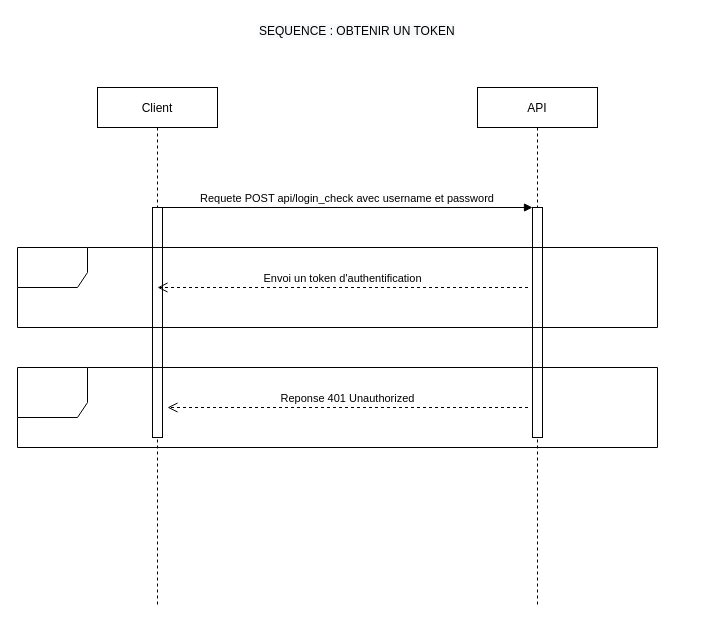
This 715x625 diagram has some shape labels left out. The centre of each missing label's shape, as x and y in pixels:
"Identifiants invalides" belongs at pixel 337 407.
"Identifiants valides" belongs at pixel 337 287.
